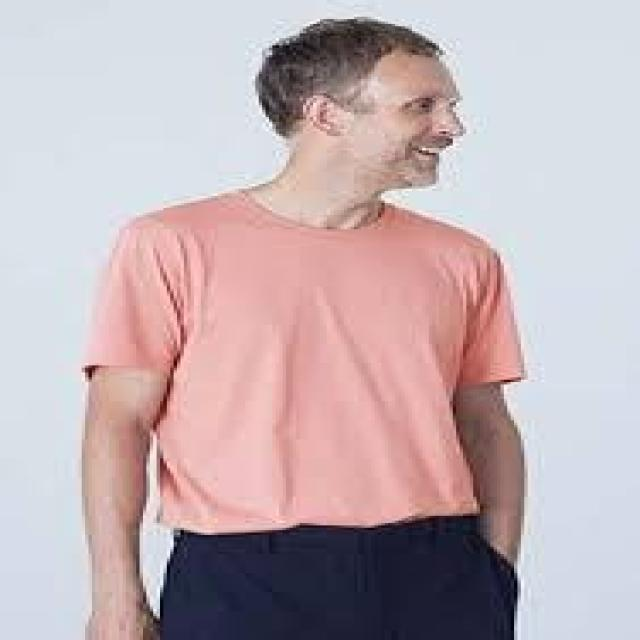Tshirt: (75, 184, 528, 540)
